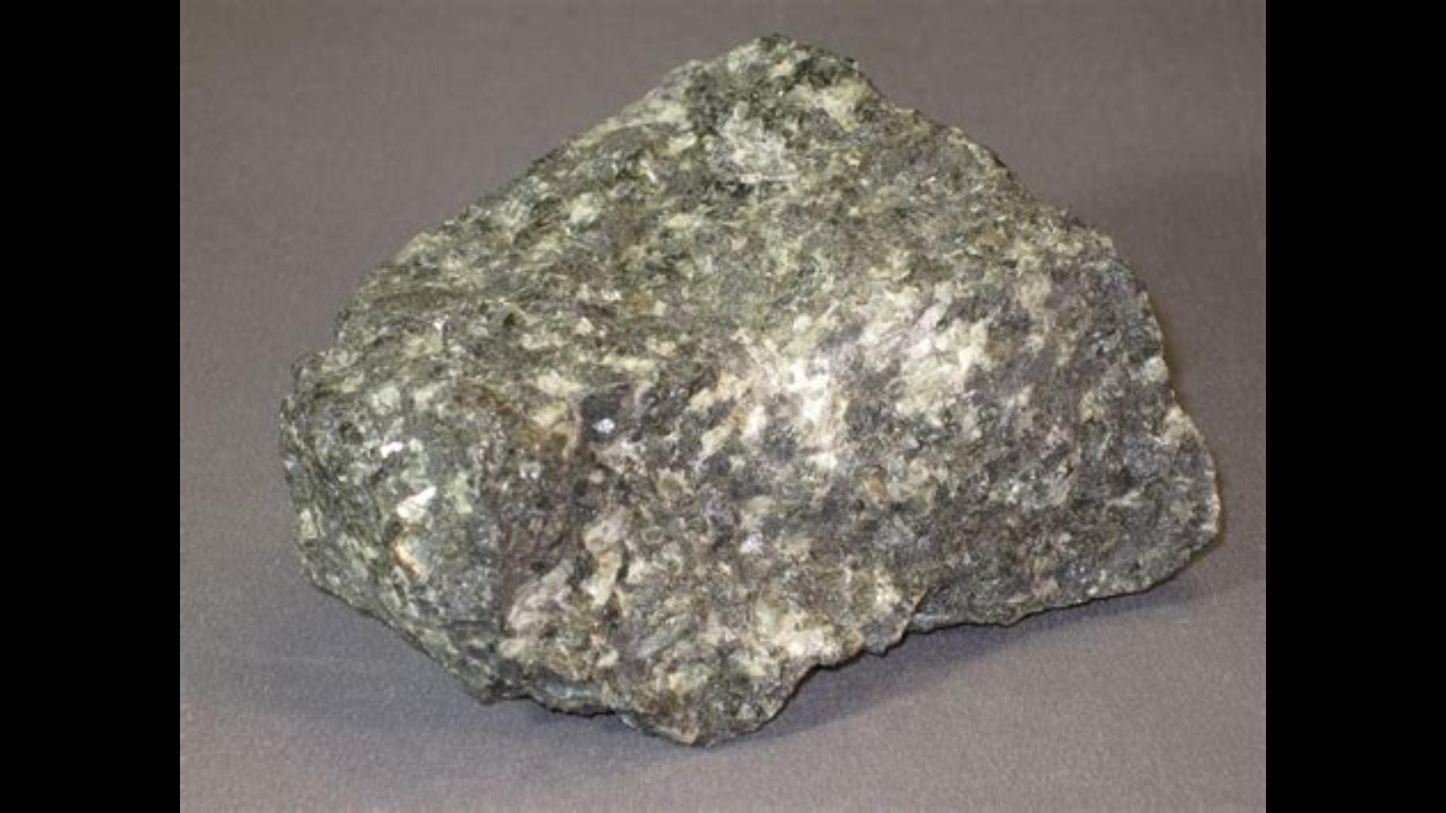rock: (283, 39, 1209, 733)
